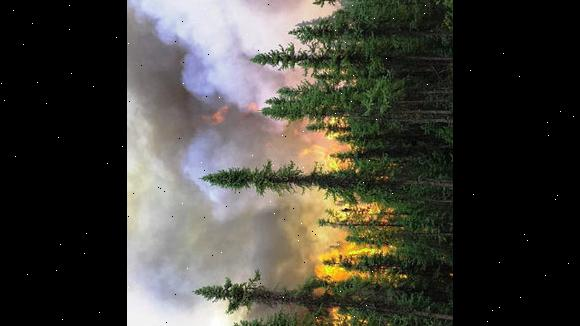fire: (276, 107, 396, 326)
